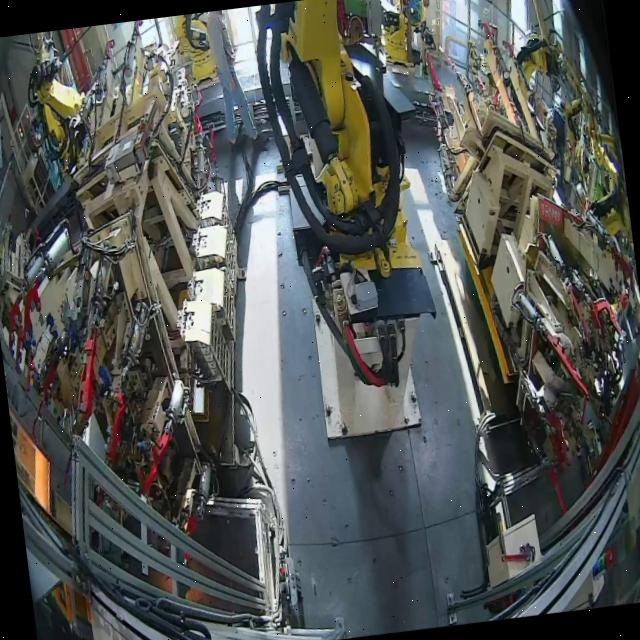Person: (205, 7, 262, 152)
